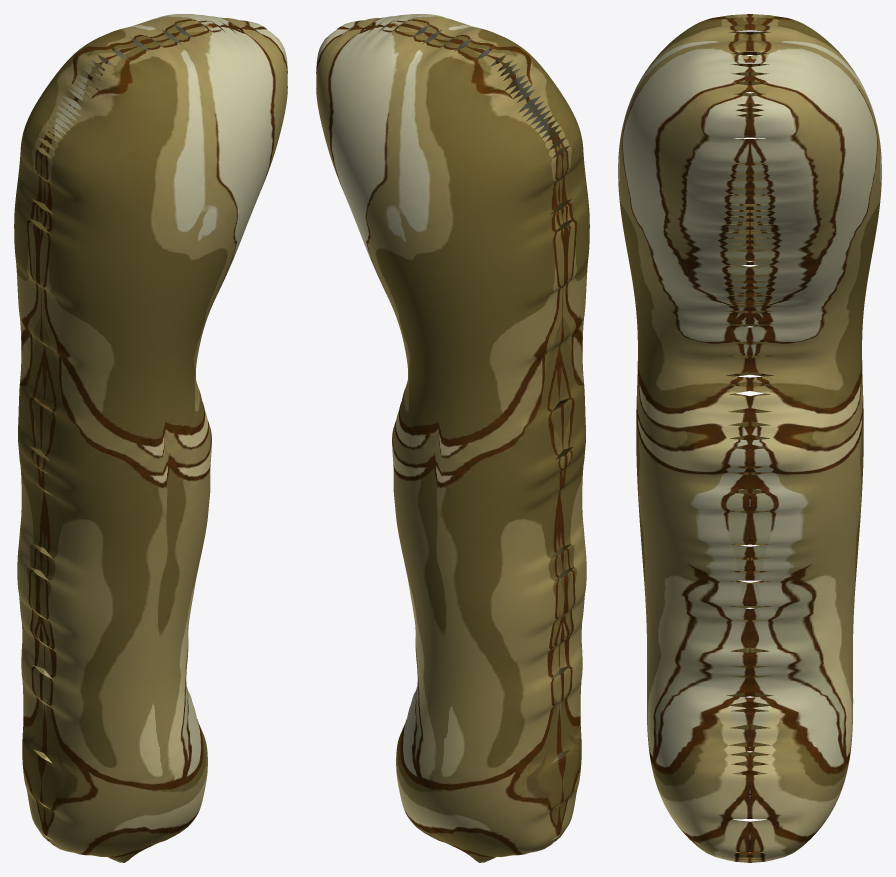
The model's file is sandstone_wall.glb.
3 views of the same model, side by side, from view 1: azimuth 30°, elevation 25°; view 2: azimuth 150°, elevation 25°; view 3: azimuth 270°, elevation 25° (orthographic). The views are drawn at different scales.
Visible parts, largest first — view 1: sandstone_wall; view 2: sandstone_wall; view 3: sandstone_wall.
Part boxes in pixels (<box>): sandstone_wall: <box>14,14,287,862</box>; sandstone_wall: <box>316,14,589,862</box>; sandstone_wall: <box>618,14,881,862</box>.
Size of the model in its own units: 0.9653 by 3.11 by 0.8868.
Materials: 1 (1 with a texture image).
